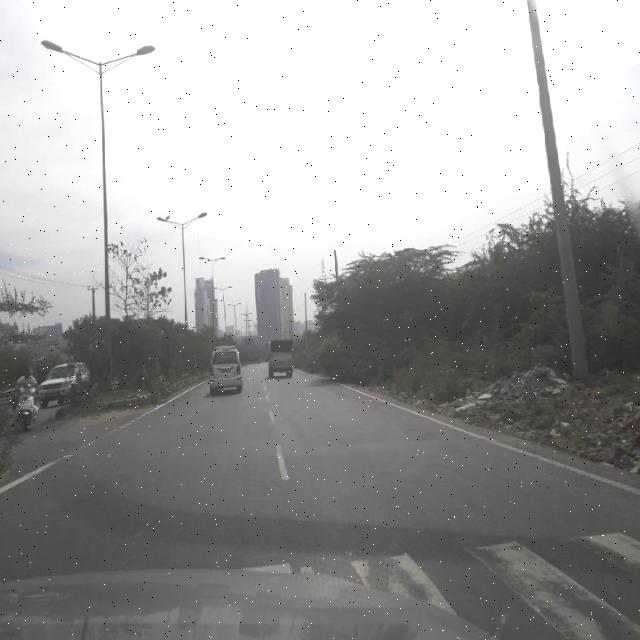D43: (333, 508, 639, 634)
